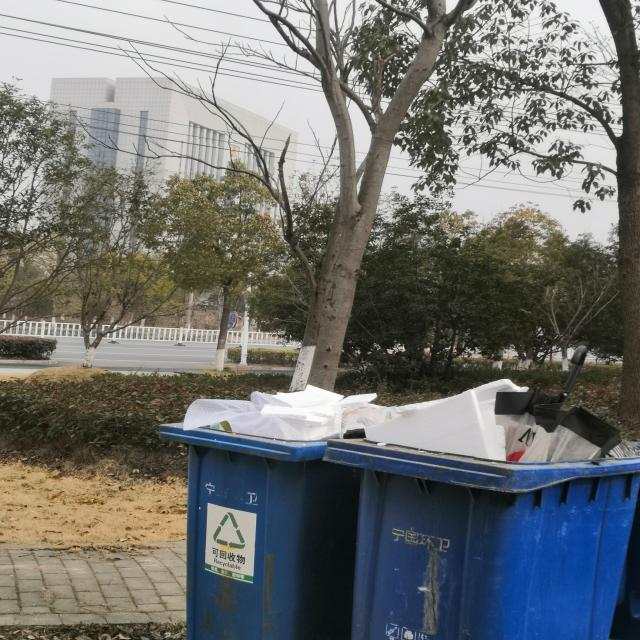overflow: (323, 377, 640, 640), (157, 384, 351, 640)
